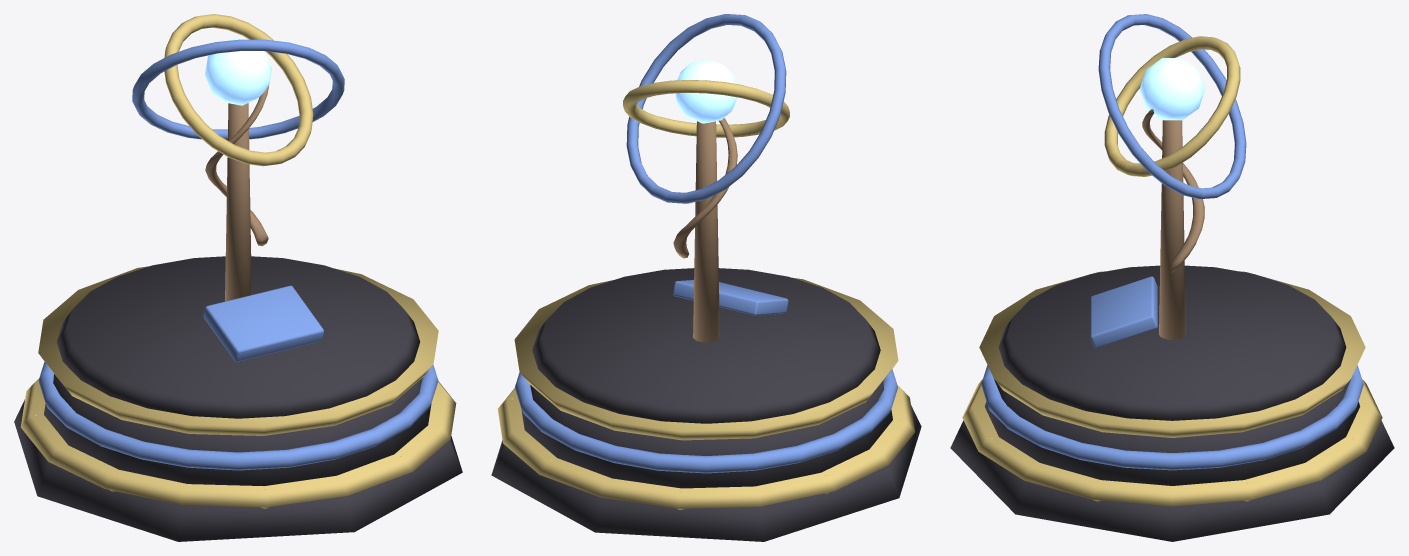
3 renders of one model, left to right at view 1: azimuth 30°, elevation 25°; view 2: azimuth 150°, elevation 25°; view 3: azimuth 270°, elevation 25°, orthographic. The views are drawn at different scales.
Visible parts, largest first — view 1: TP-001_Prospero; view 2: TP-001_Prospero; view 3: TP-001_Prospero.
Part boxes in pixels (left/top/right/bottom): TP-001_Prospero: left=14, top=14, right=462, bottom=541; TP-001_Prospero: left=491, top=14, right=921, bottom=541; TP-001_Prospero: left=950, top=14, right=1394, bottom=541.
Bounding box in the file's own units: 0.92 × 0.9482 × 0.92.
